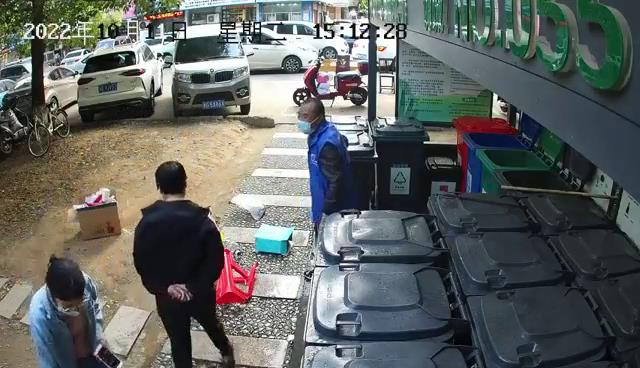person: (132, 160, 235, 368)
suliaozhipin: (231, 194, 266, 221)
worker: (294, 99, 363, 274), (29, 253, 124, 368)
zhizhipin: (66, 187, 124, 241), (253, 222, 295, 258)
